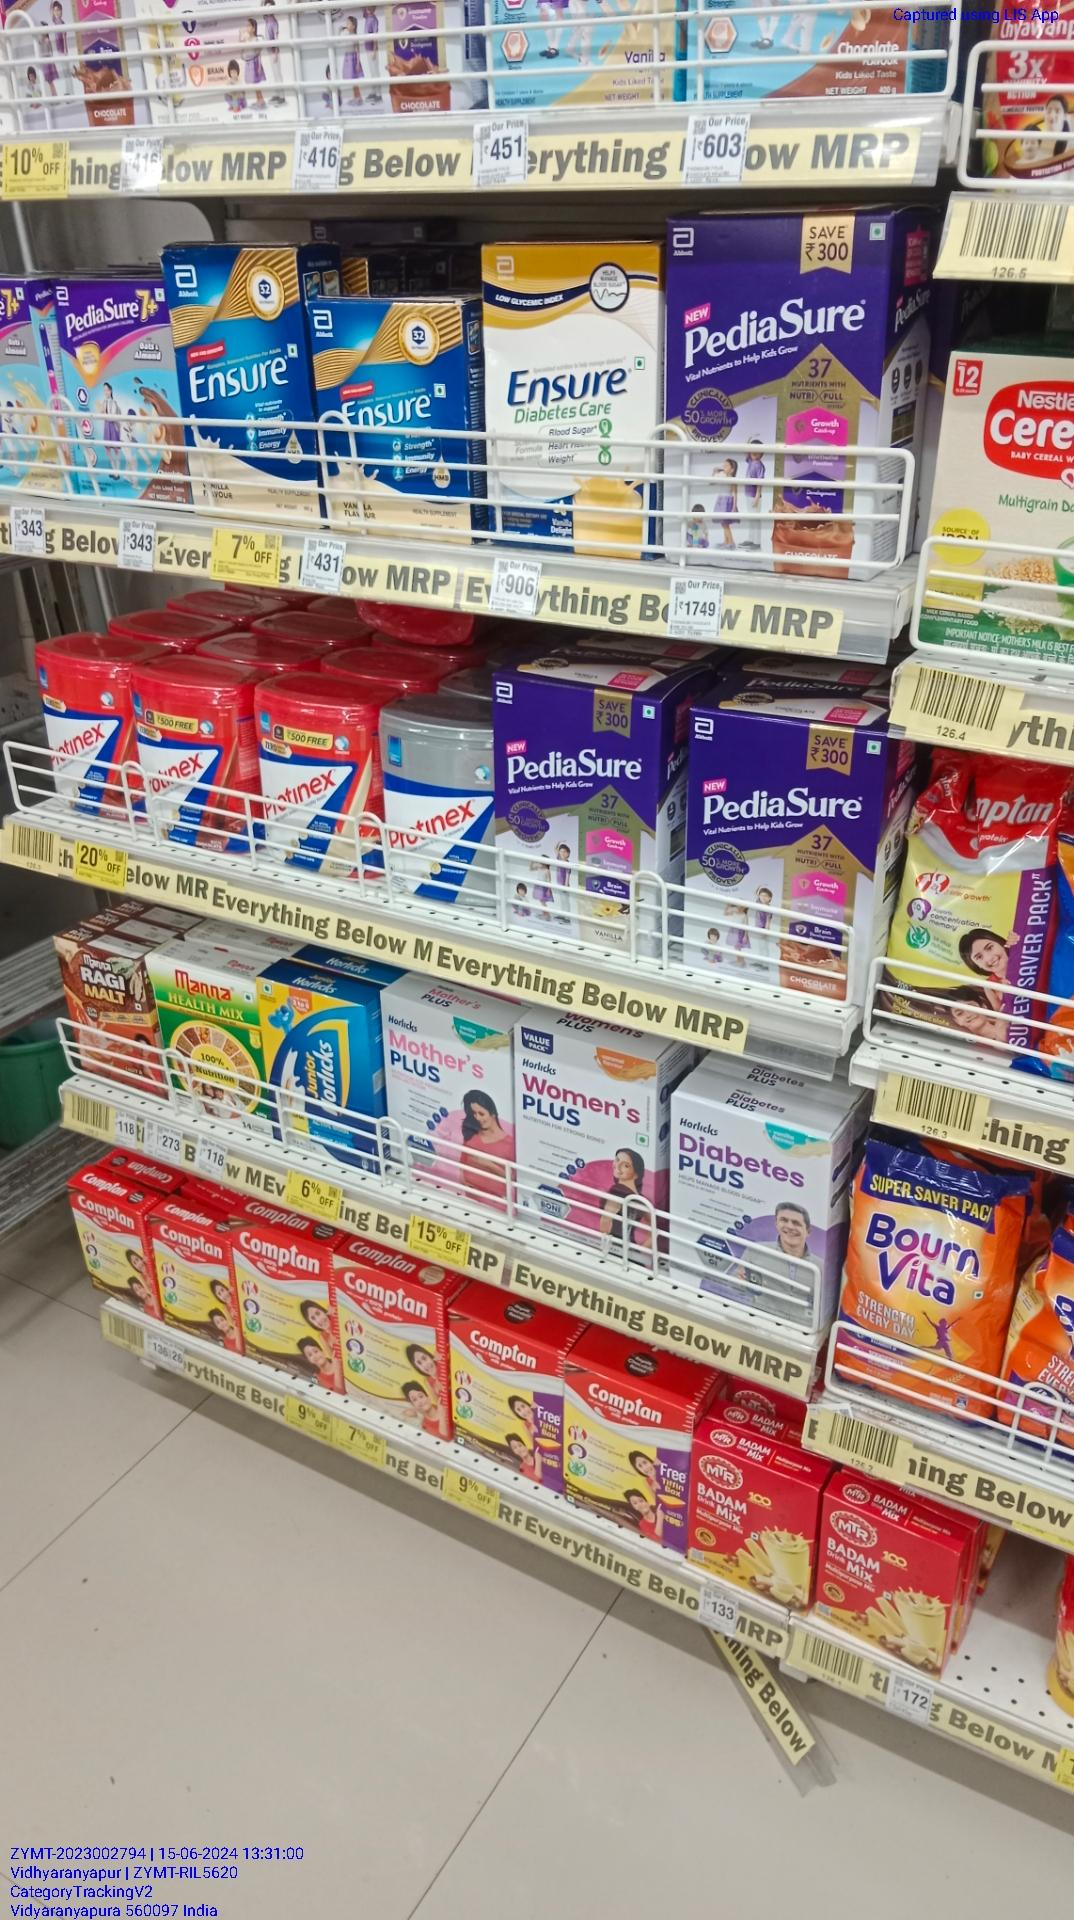BOURN_VITA_1_KG_POUCH: (837, 1167, 996, 1390)
COMPLAN_CHOCOLATE_500_GMS_PACK: (565, 1371, 685, 1506), (451, 1312, 561, 1449), (237, 1228, 331, 1386), (74, 1188, 152, 1317), (156, 1215, 227, 1328)
COMPLAN_KESAR_BADAM_500_GMS_PACK: (338, 1258, 447, 1436)
COMPLAN_RC_POUCH_700_GMS_12: (892, 748, 1037, 1046)
ENSURE_VANILLA_400_G_PACK: (177, 251, 313, 518)
PEDIASURE_7_PLUS_CHOCOLATE_400_G_PACK: (59, 284, 164, 500)
PEDIASURE_CHOCOLATE_500_G_PACK: (670, 222, 879, 572), (686, 713, 862, 997)
PEDIASURE_VANILLA_500_G_PACK: (500, 673, 658, 955)
PROTINEX_CHOCOLATE_400_G_JAR: (136, 669, 247, 848), (38, 653, 129, 828)
PROTINEX_ORIGINAL_400_G_JAR: (381, 712, 490, 907)
PROTINEX_VANILLA_400_G_JAR: (257, 692, 371, 877)
